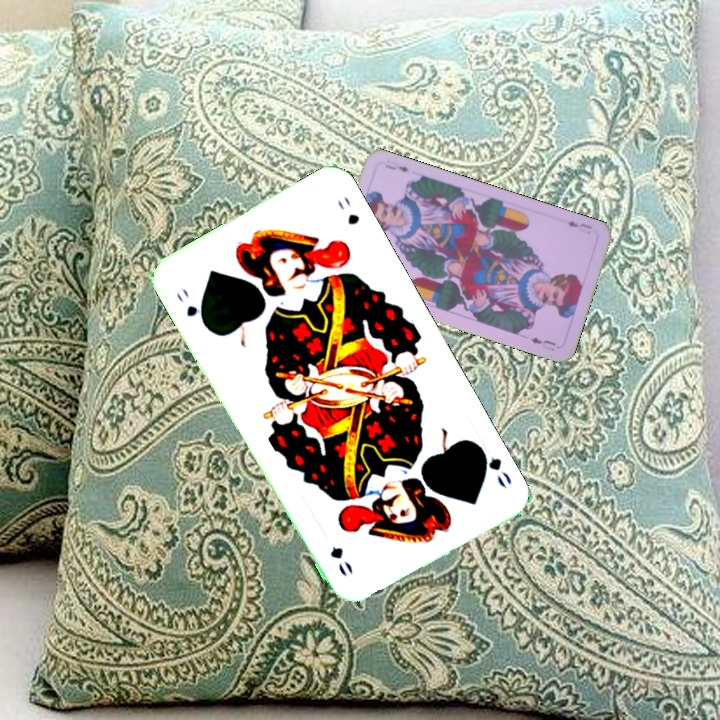EU: (562, 217, 595, 236)
GO: (473, 441, 514, 492), (172, 284, 209, 330)
